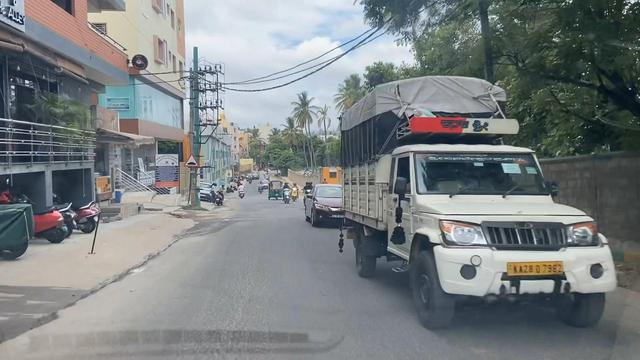HMV: (331, 75, 624, 337)
